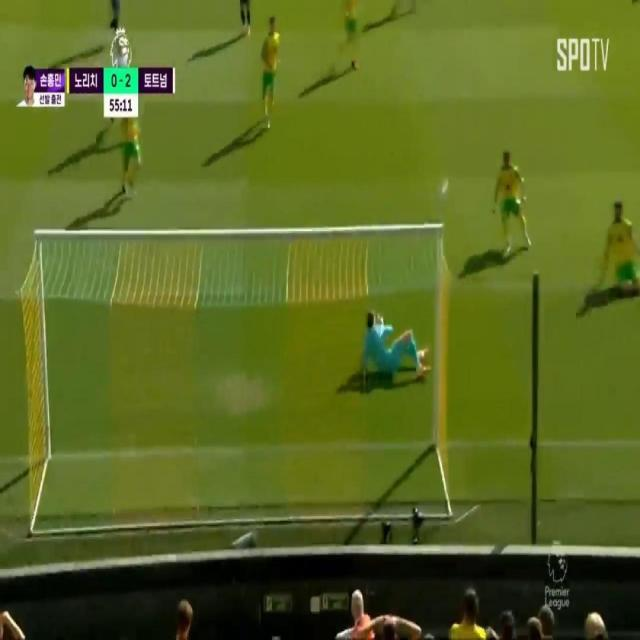ball: (439, 173, 452, 200)
goalkeeper: (345, 301, 432, 418)
player: (495, 148, 527, 245), (608, 205, 640, 299), (264, 17, 281, 116), (341, 0, 363, 70), (121, 115, 140, 188), (236, 0, 255, 40), (106, 0, 128, 33)
